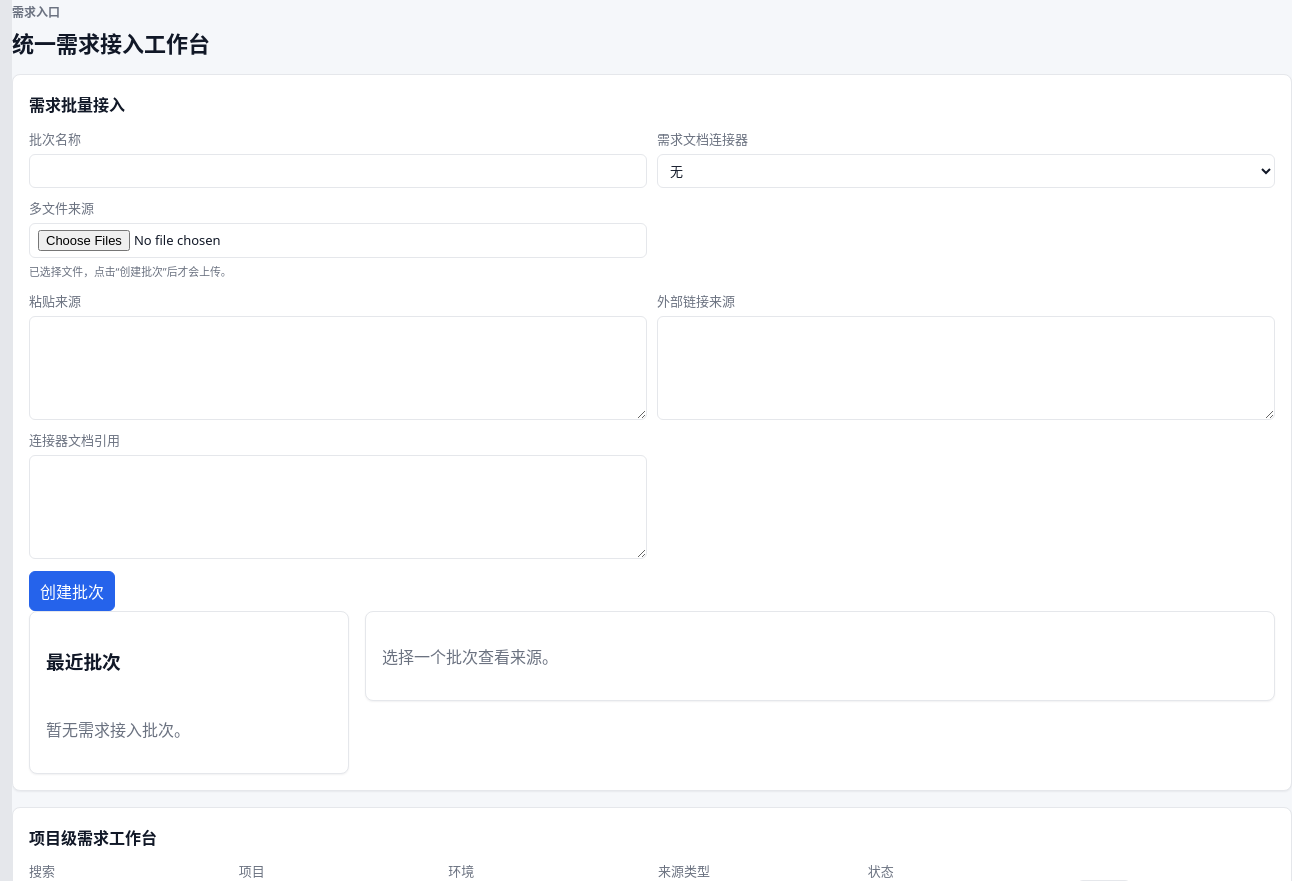
Scenario: Community requirement intake workbench › reuses the pending upload key after remounting following a network failure
This screenshot has width=1292, height=881.
Earlier steps of the test are not shown.
Step 1. Click the button "创建批次" → x=72, y=591, box [29,571,115,611]
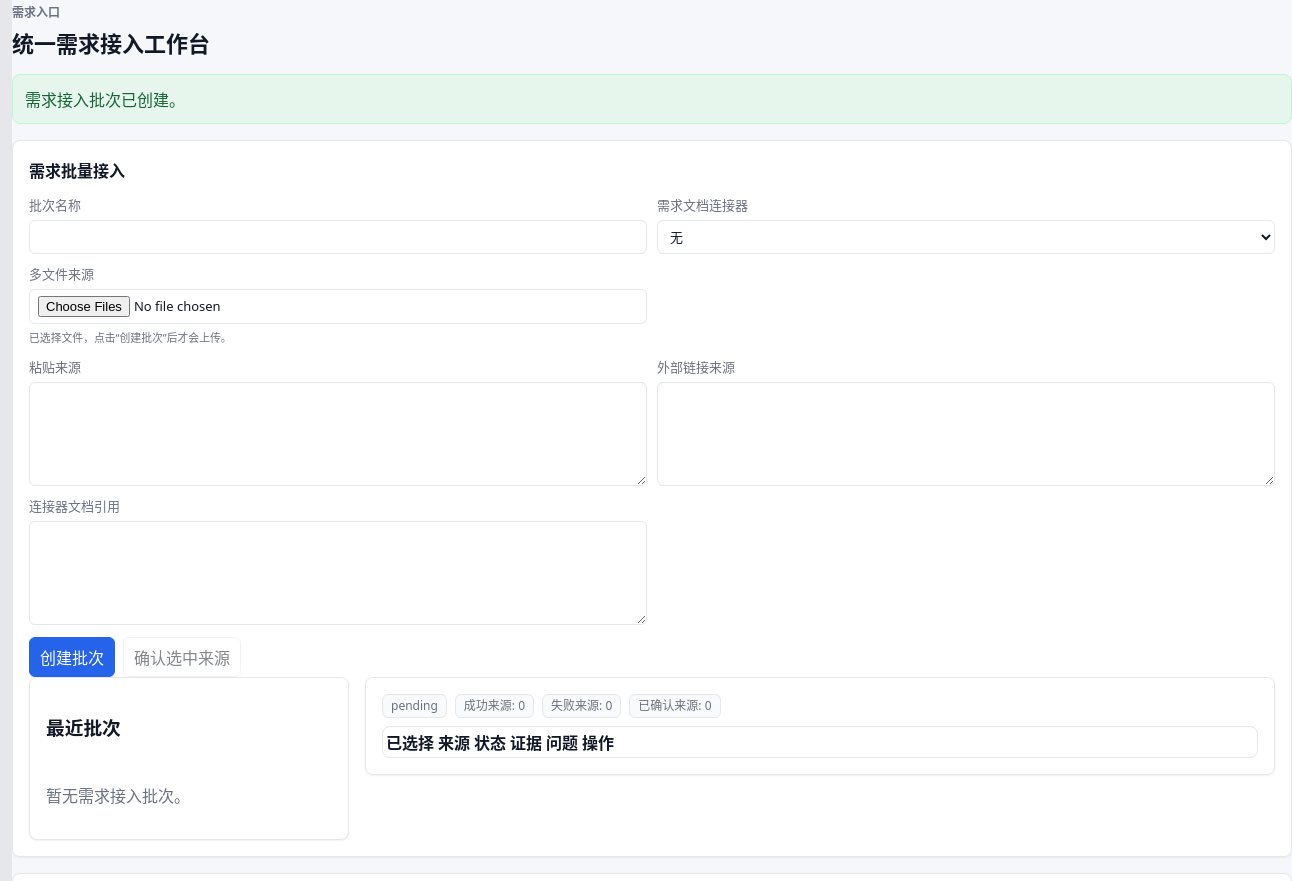
Expected: the text "需求接入批次已创建。" is shown, [12,74,1291,124]
